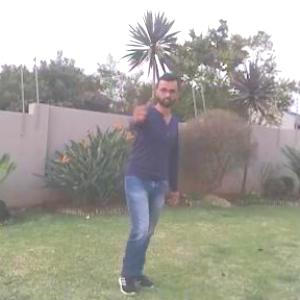takeoff-hand: (123, 91, 155, 129)
